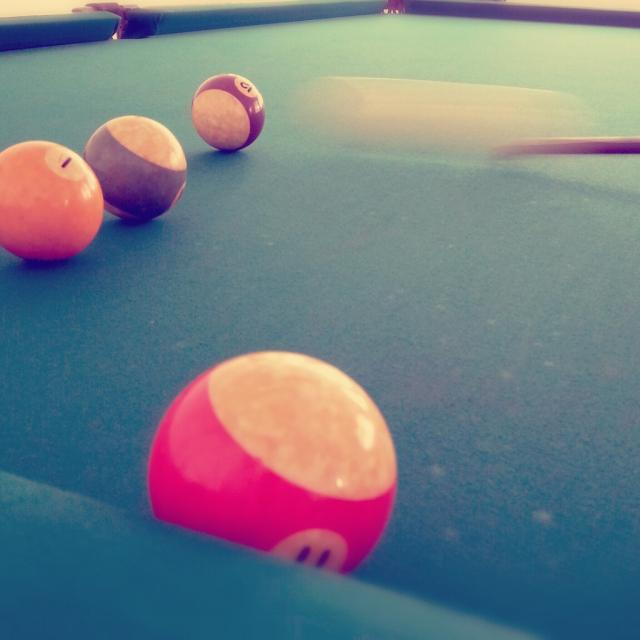Ball: (148, 352, 397, 576), (0, 140, 103, 261), (82, 116, 188, 222), (192, 72, 267, 152)
Billiard table: (0, 0, 640, 640)
